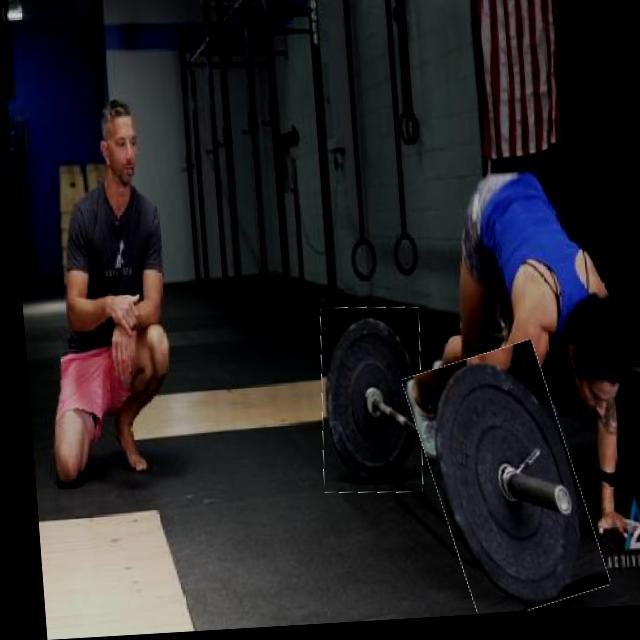barbell: (409, 350, 589, 623), (310, 310, 423, 501)
